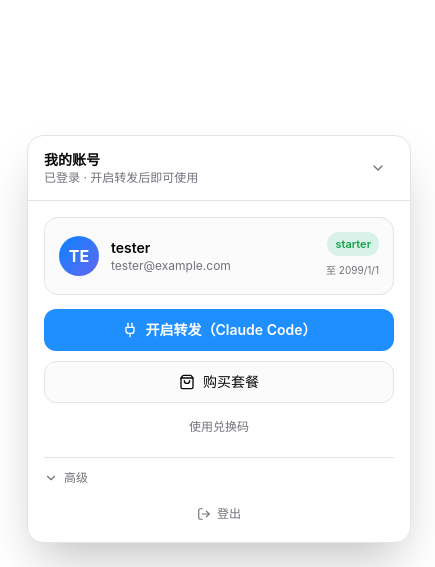
Test: LlmGatewaySubscriptionDock 换档结账页 › Pro 剩 300 天升 Business 月付：新到期日、抵扣额、余额同屏可见
Click the button "购买套餐".
click(219, 382)  # box [44,361,394,403]
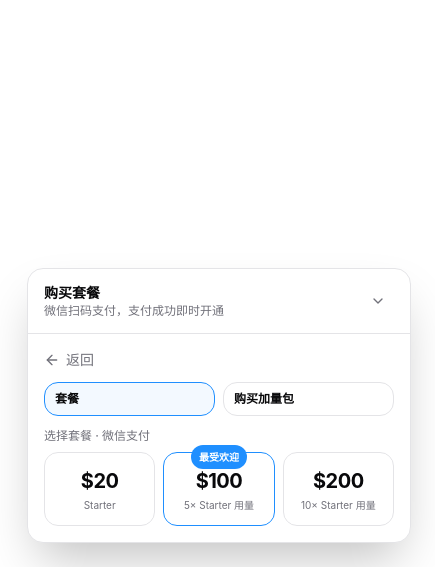
Click the text "$200".
click(338, 481)  # box [313,469,364,493]
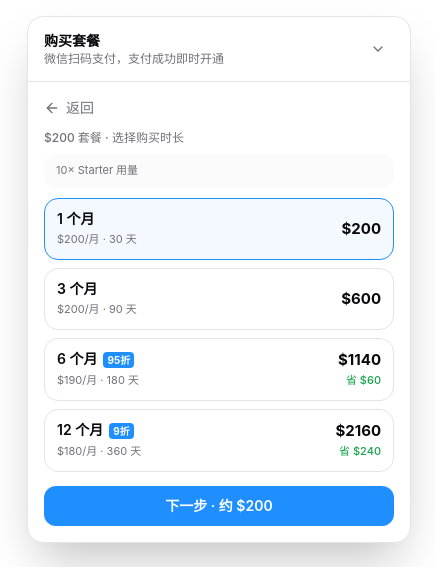
Click the button "下一步 · 约 $200".
click(219, 506)  # box [44,486,394,526]
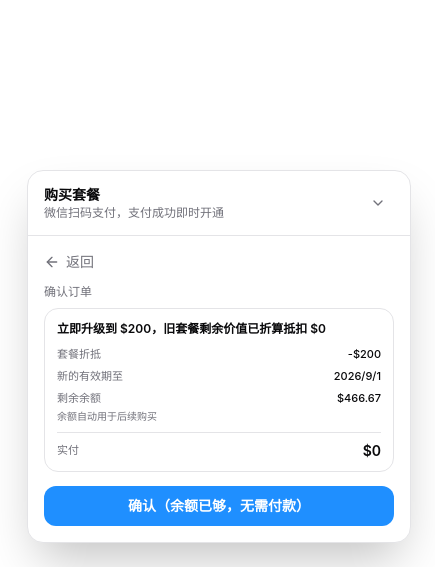
Expected: the text "2026/9/1" is shown, [334,368,381,386]
Expected: the text "-$200" is shown, [348,346,381,364]
Expected: the text "$466.67" is shown, [337,390,381,408]
